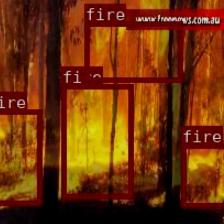fire: (60, 83, 132, 198), (84, 20, 182, 82), (0, 109, 42, 204), (181, 142, 224, 207)
